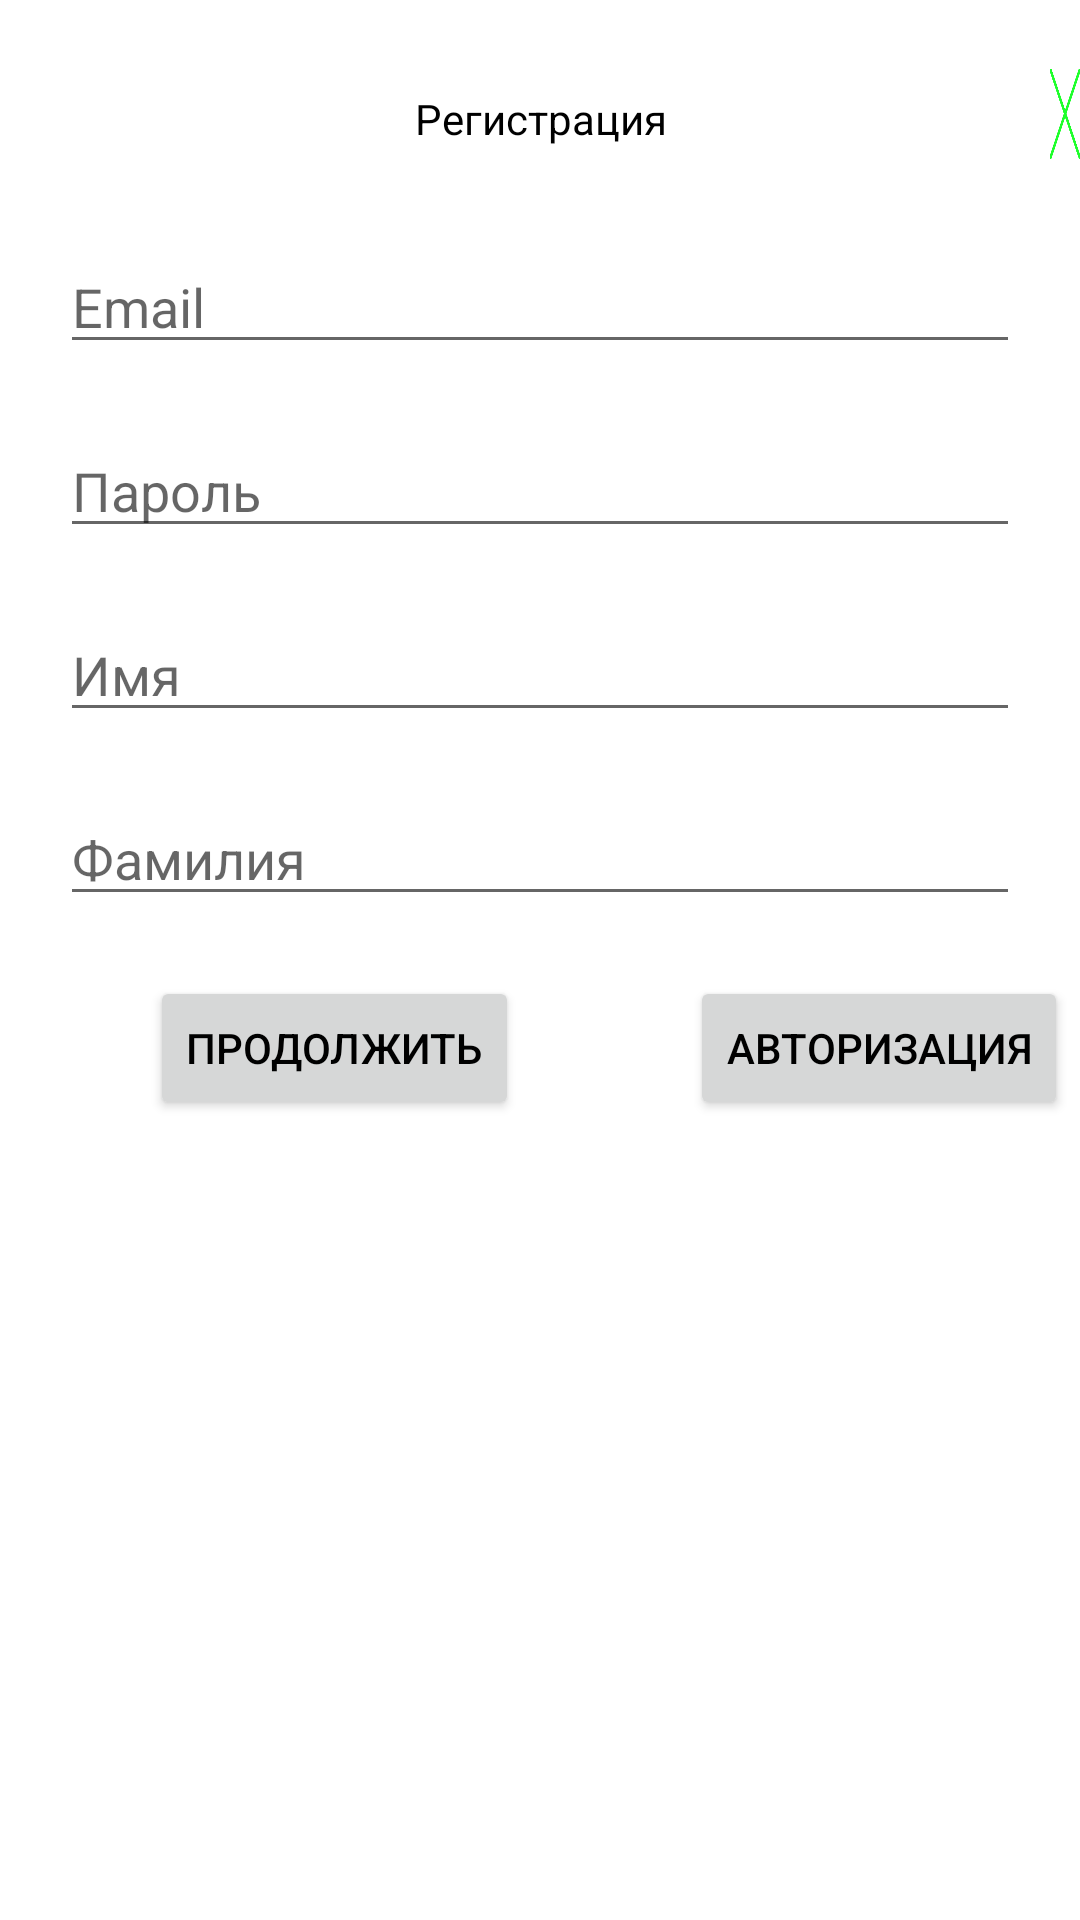

Point at icon controls on the screen. Image size 1080 × 1920, points as [x,y].
close: [1065,114]
